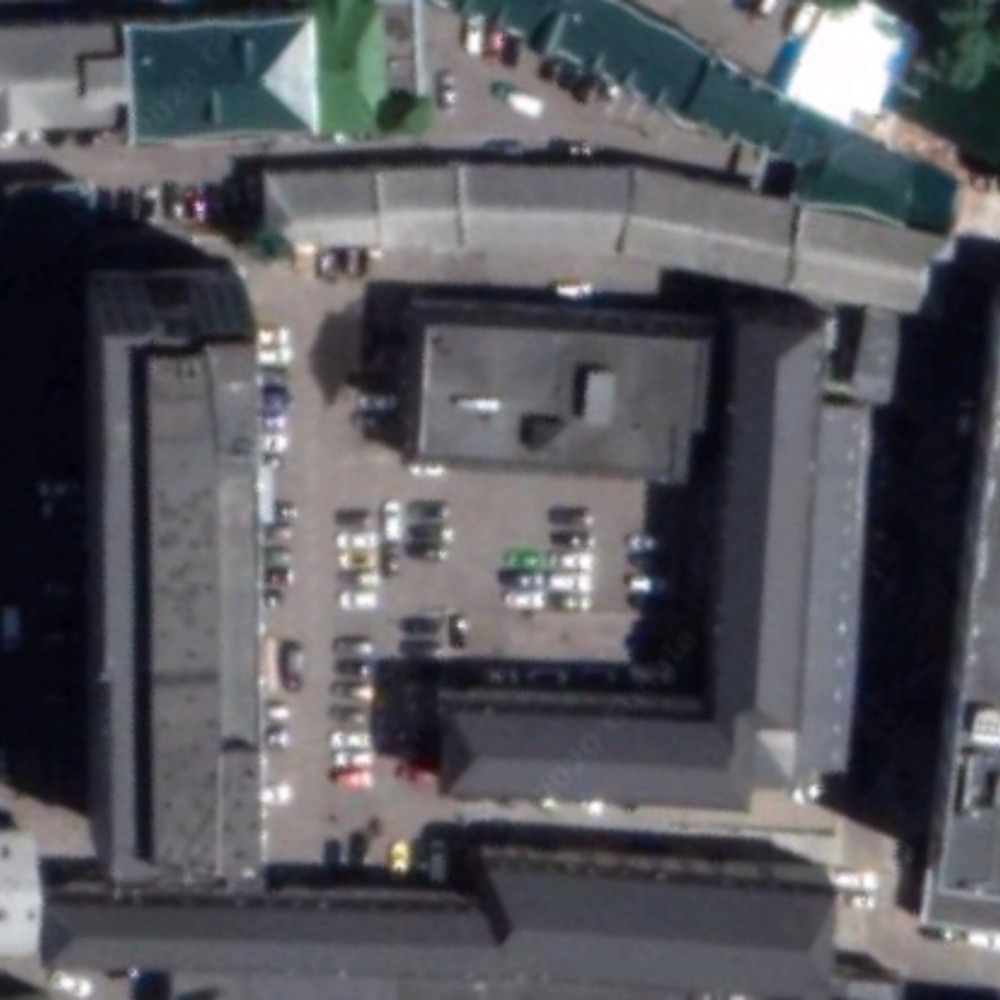parking: (240, 260, 740, 870)
